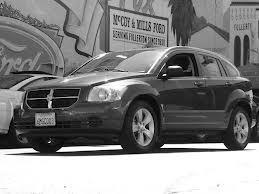car: (14, 46, 258, 155)
